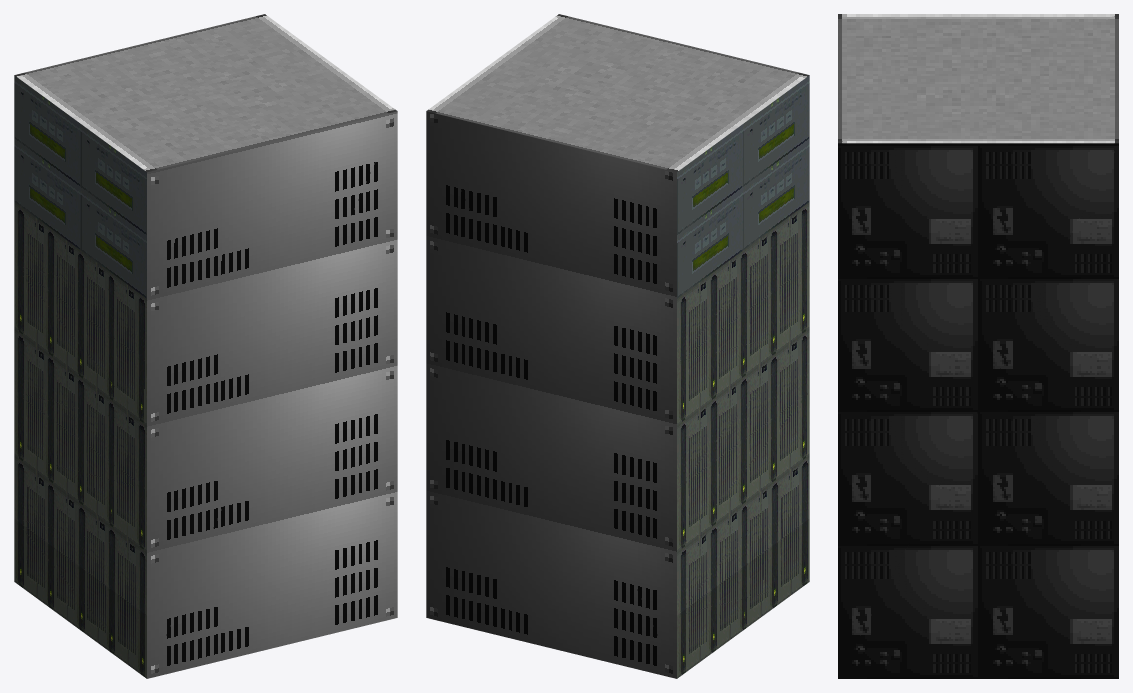
Rendered from control_mainframe_3.glb.
3 renders of one model, left to right at view 1: azimuth 30°, elevation 25°; view 2: azimuth 150°, elevation 25°; view 3: azimuth 270°, elevation 25°, orthographic. The views are drawn at different scales.
Visible parts, largest first — view 1: Object; view 2: Object; view 3: Object.
Boxes of the visible parts, x1,y1,x2,y2 form: Object: (14,14,397,678); Object: (426,14,809,678); Object: (838,14,1118,678).
Size of the model in its own units: 1.66 by 3.2 by 1.52.
Materials: 9 (9 with a texture image).
